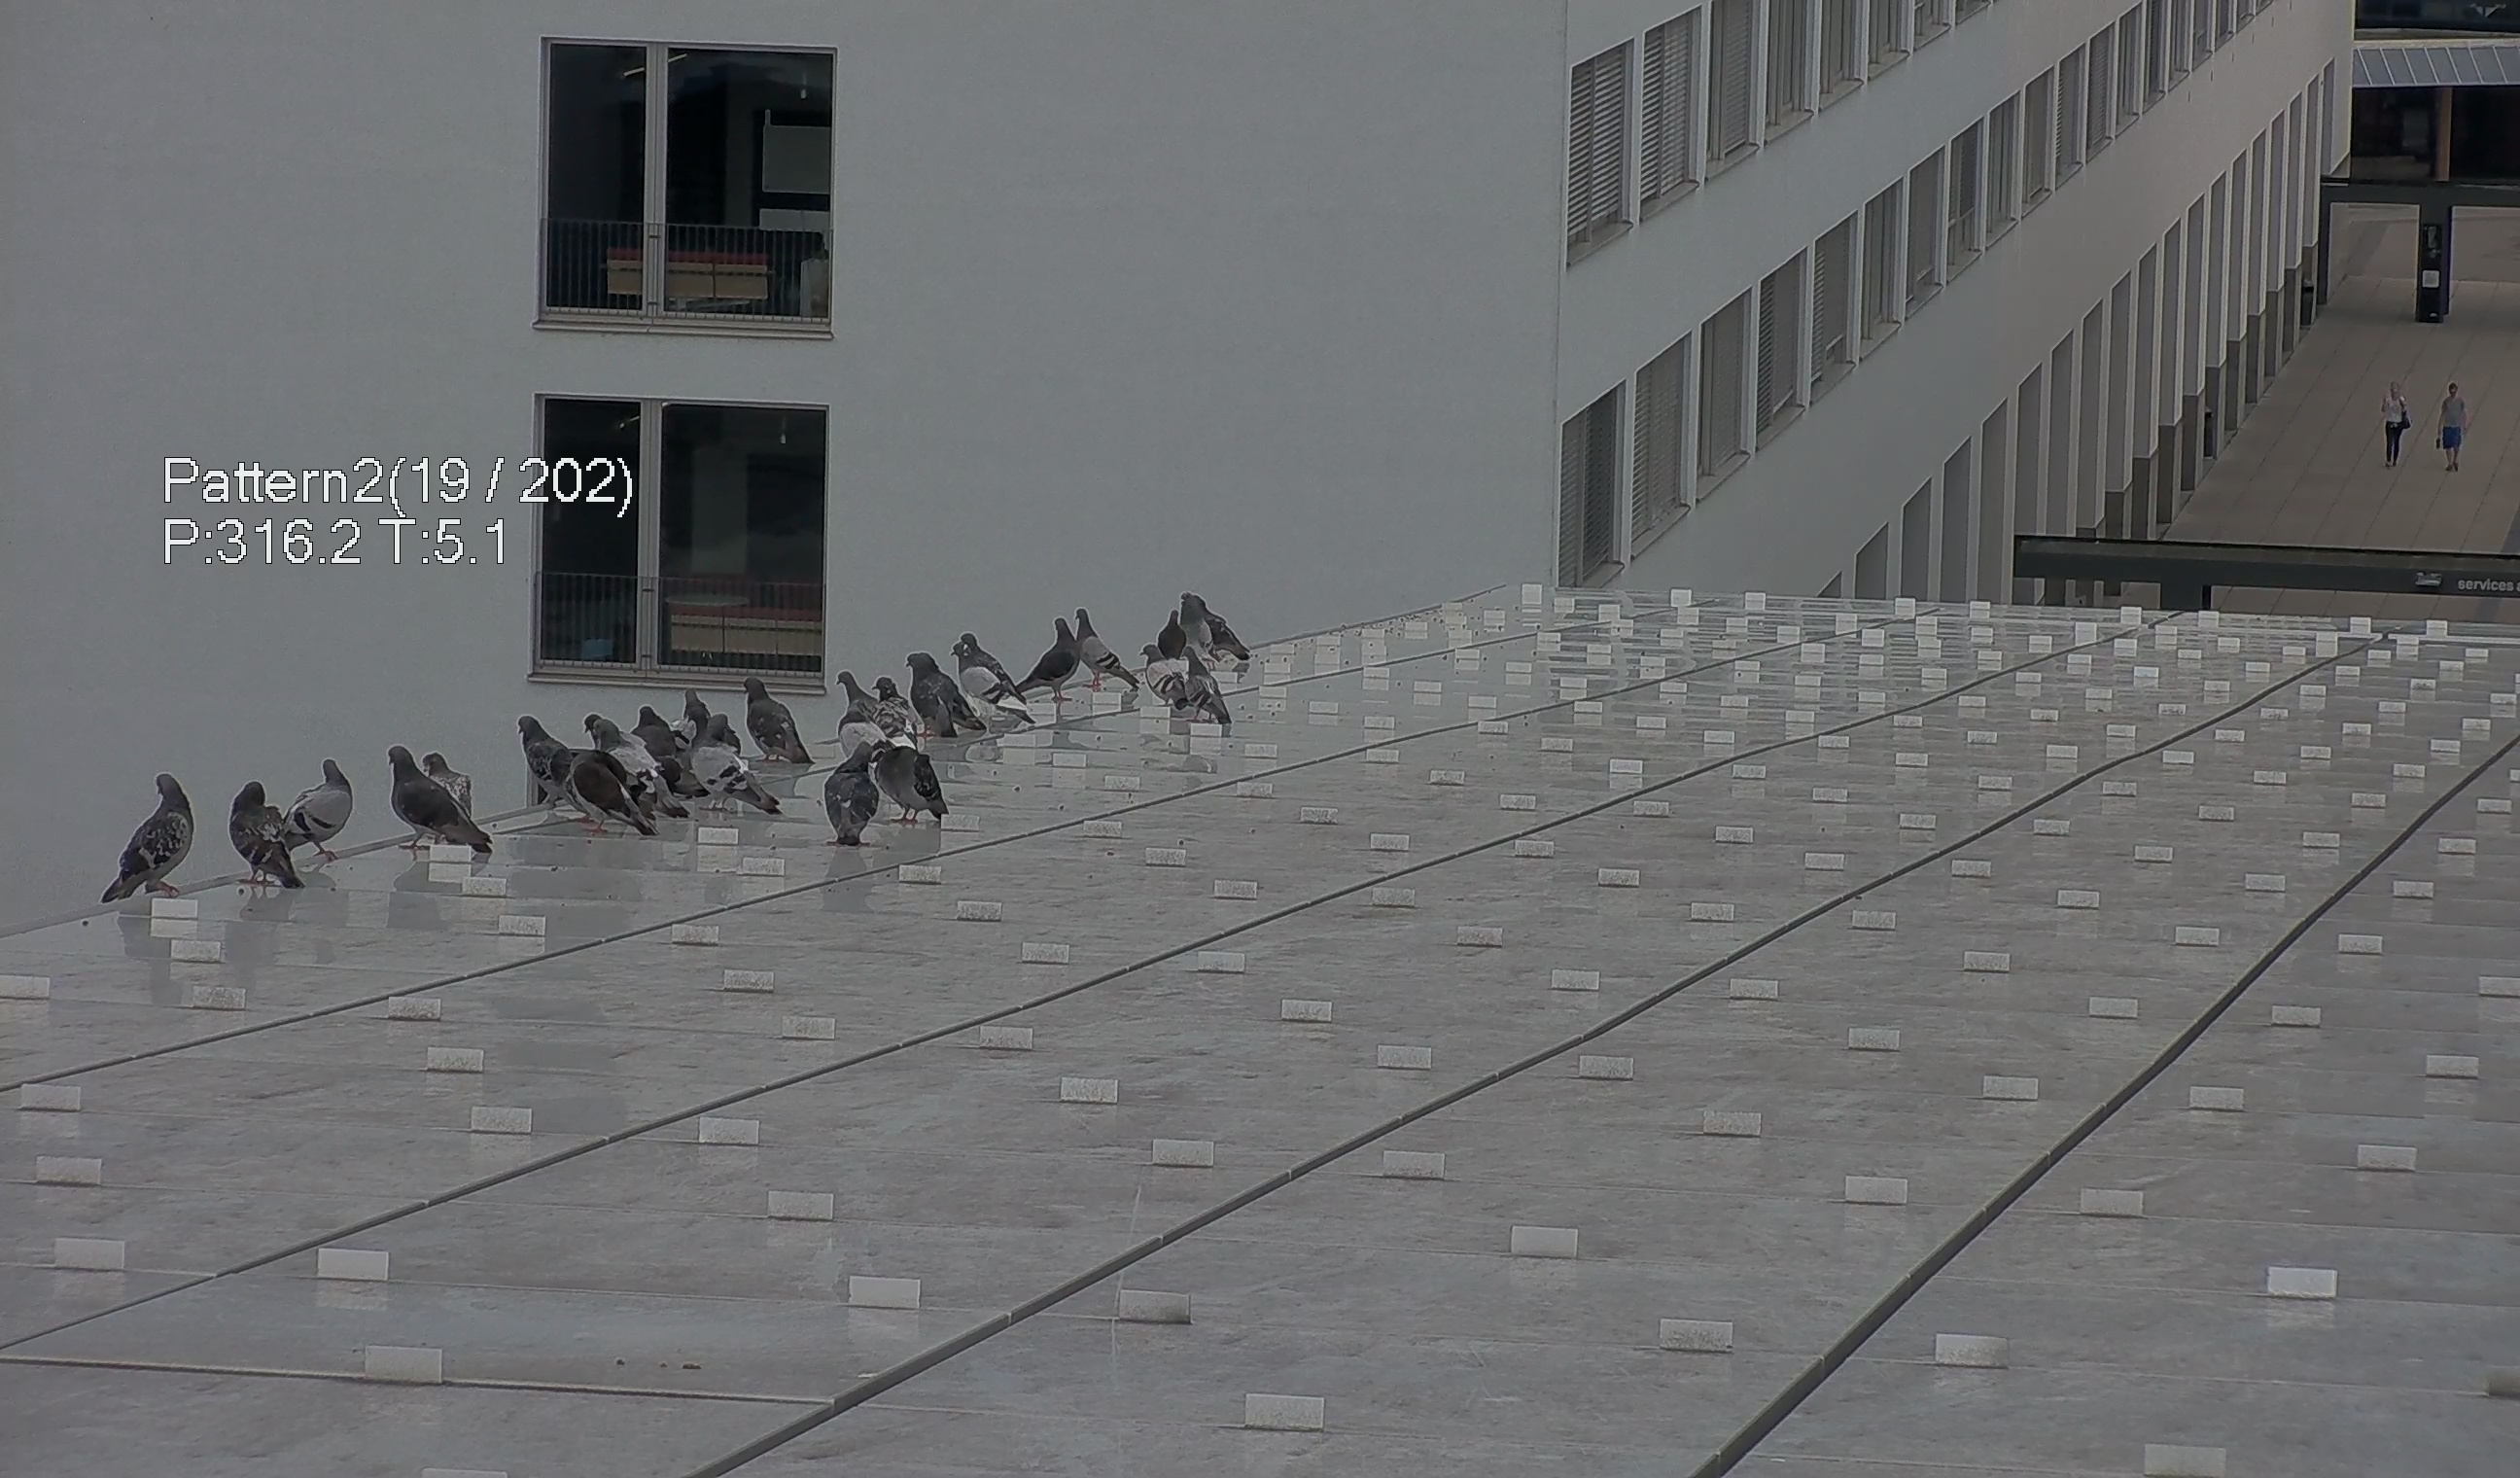Pigeon: (93, 758, 213, 913), (366, 734, 487, 871), (213, 765, 317, 896), (1157, 567, 1254, 679), (542, 744, 649, 841), (904, 637, 990, 746), (285, 741, 353, 864), (742, 669, 812, 781), (872, 737, 951, 829), (1073, 596, 1143, 699), (946, 633, 1015, 732), (1013, 612, 1087, 704), (816, 746, 878, 850), (1175, 648, 1229, 744), (1133, 635, 1194, 709), (510, 713, 564, 795), (575, 709, 628, 760), (837, 665, 878, 707)
